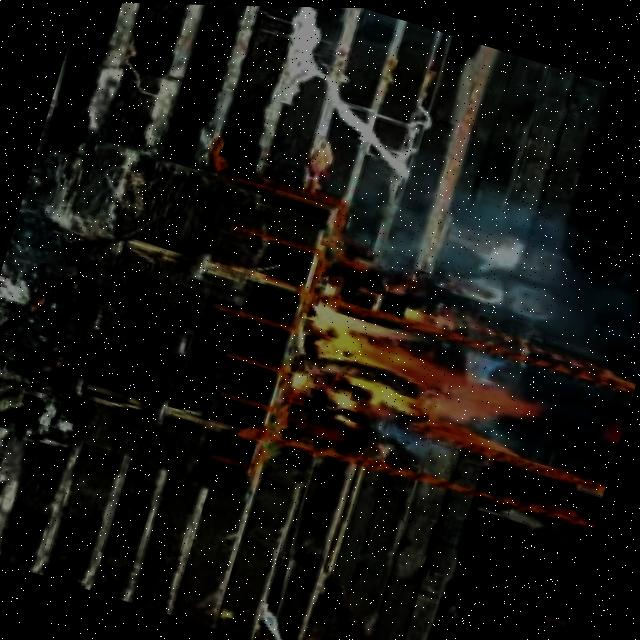Fire: (282, 280, 536, 464)
